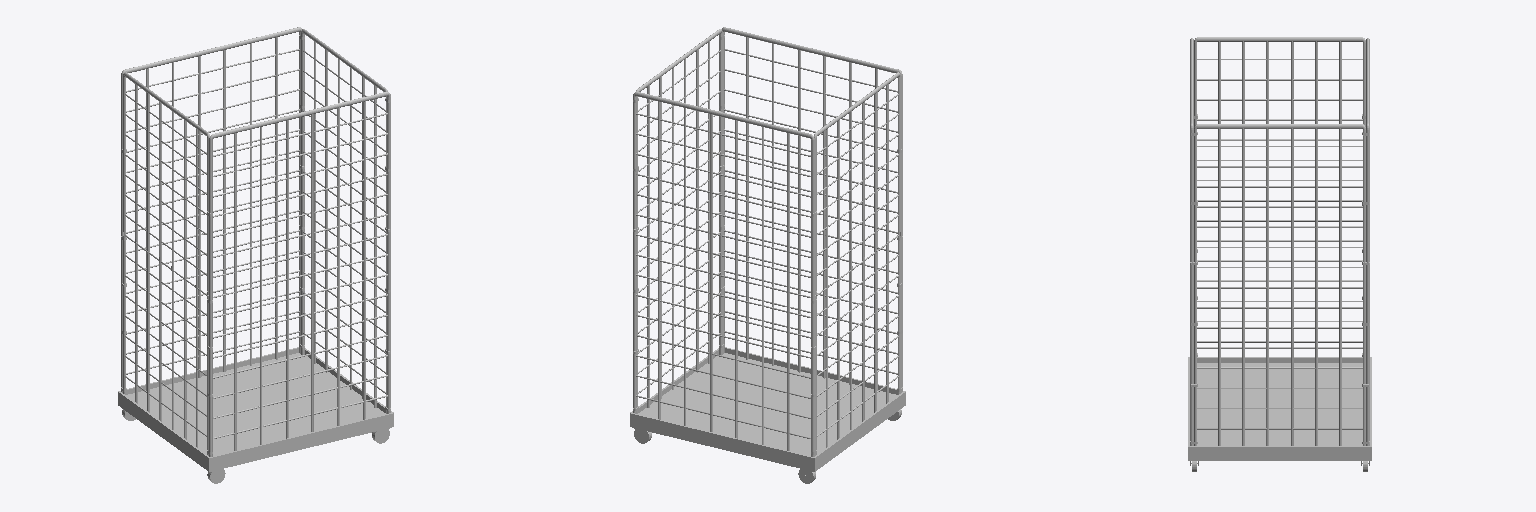
Rendered from uploads_files_3004877_Trolley.obj.
3 views of the same model, side by side, from view 1: azimuth 30°, elevation 25°; view 2: azimuth 150°, elevation 25°; view 3: azimuth 270°, elevation 25° (orthographic).
Visible parts, largest first — view 1: Basis_Cube, Front_Cube.002, Back_Cube.001; view 2: Basis_Cube, Front_Cube.002, Back_Cube.001; view 3: Basis_Cube, Back_Cube.001, Front_Cube.002.
Boxes of the visible parts, x1,y1,x2,y2 form: Basis_Cube: [118, 27, 393, 483]; Front_Cube.002: [123, 72, 209, 455]; Back_Cube.001: [121, 29, 390, 454]; Basis_Cube: [630, 27, 905, 483]; Front_Cube.002: [814, 72, 900, 455]; Back_Cube.001: [633, 29, 902, 454]; Basis_Cube: [1188, 38, 1371, 471]; Back_Cube.001: [1190, 124, 1369, 445]; Front_Cube.002: [1194, 37, 1365, 342].
Bounding box in the file's own units: 0.9327 × 1.69 × 0.7994.